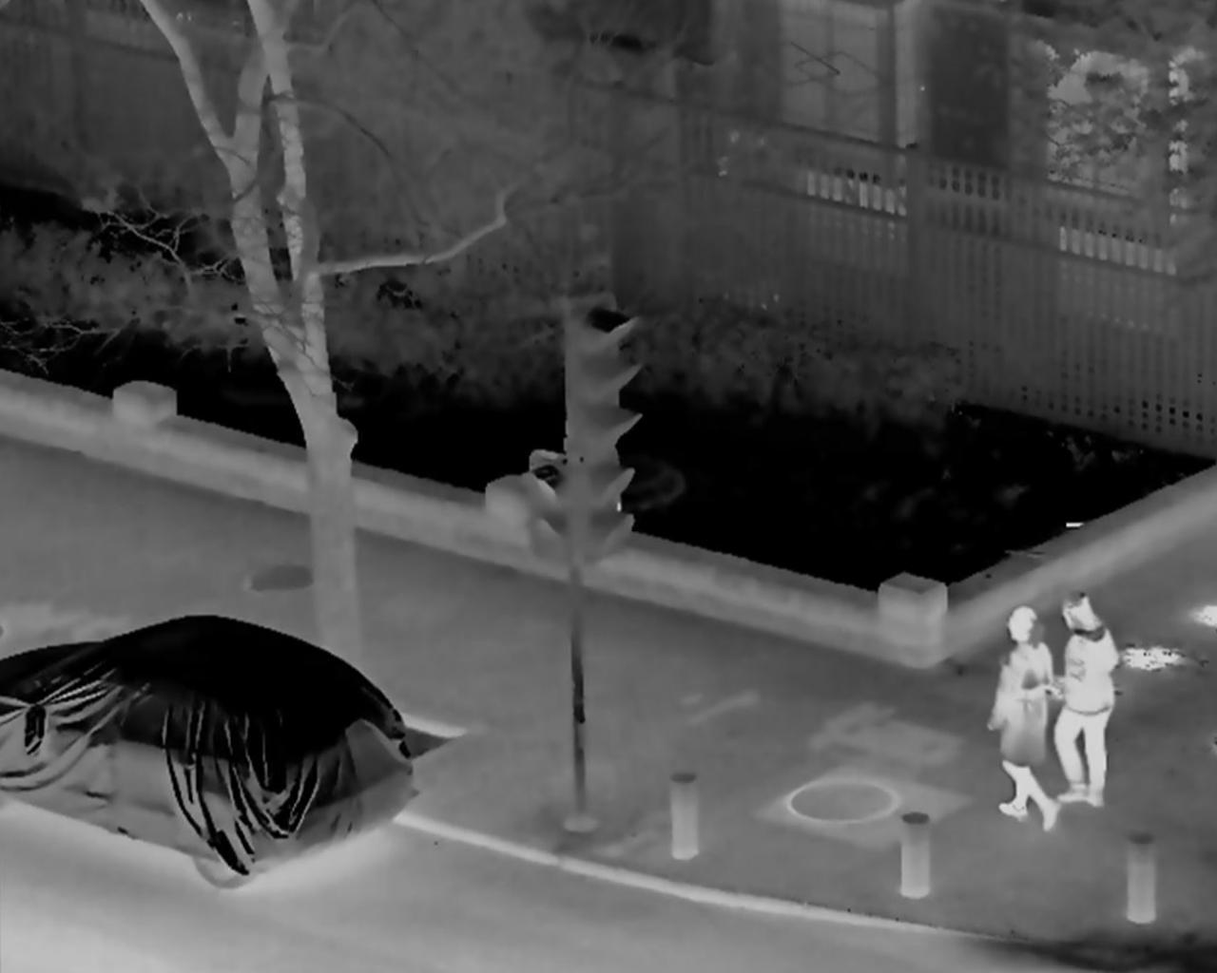person: (985, 608, 1060, 831), (1045, 594, 1119, 811)
